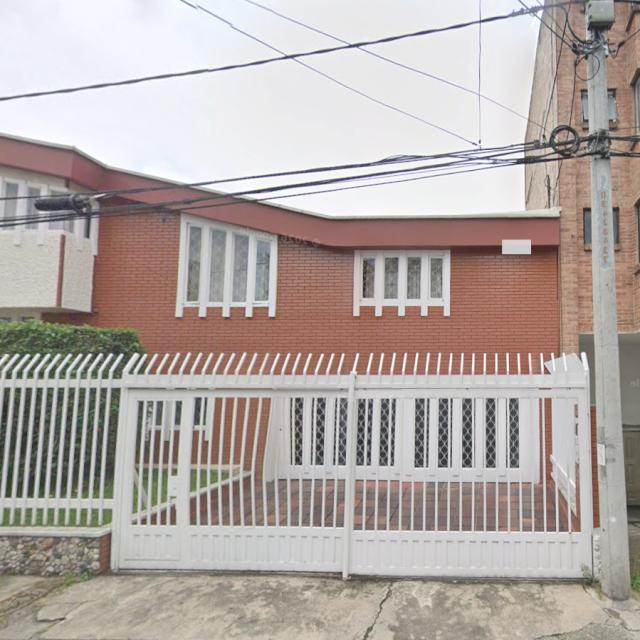fachada: (0, 136, 592, 577), (0, 136, 559, 354), (610, 157, 639, 504)
poste: (587, 29, 629, 600)
